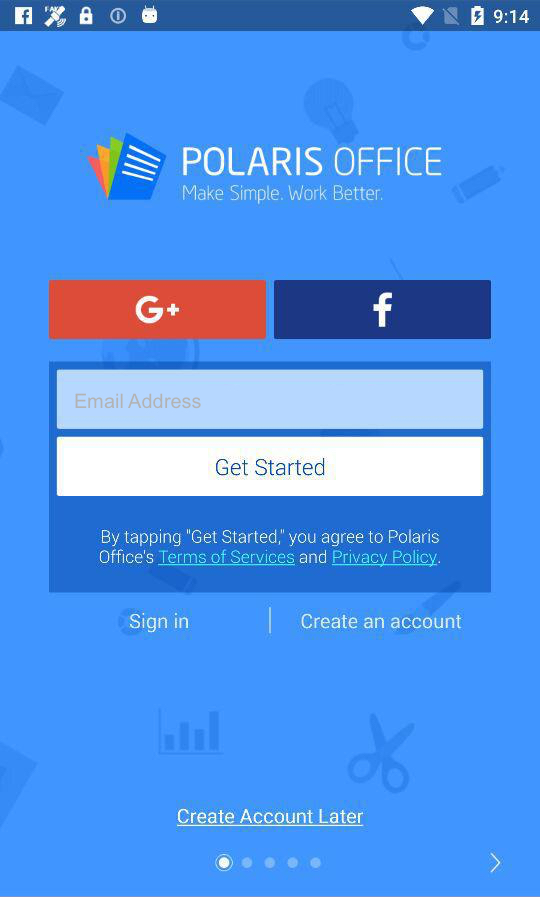EditText: (57, 370, 484, 431)
Icon: (486, 848, 504, 876)
Image: (86, 131, 443, 207)
PageIndicator: (214, 852, 323, 873)
Text: (100, 529, 441, 569), (176, 808, 365, 828), (300, 613, 463, 630), (75, 393, 202, 410), (129, 612, 190, 634)
TextButton: (57, 438, 483, 497), (49, 280, 267, 340), (274, 281, 491, 340)
UpperTaskBar: (1, 1, 540, 33)
